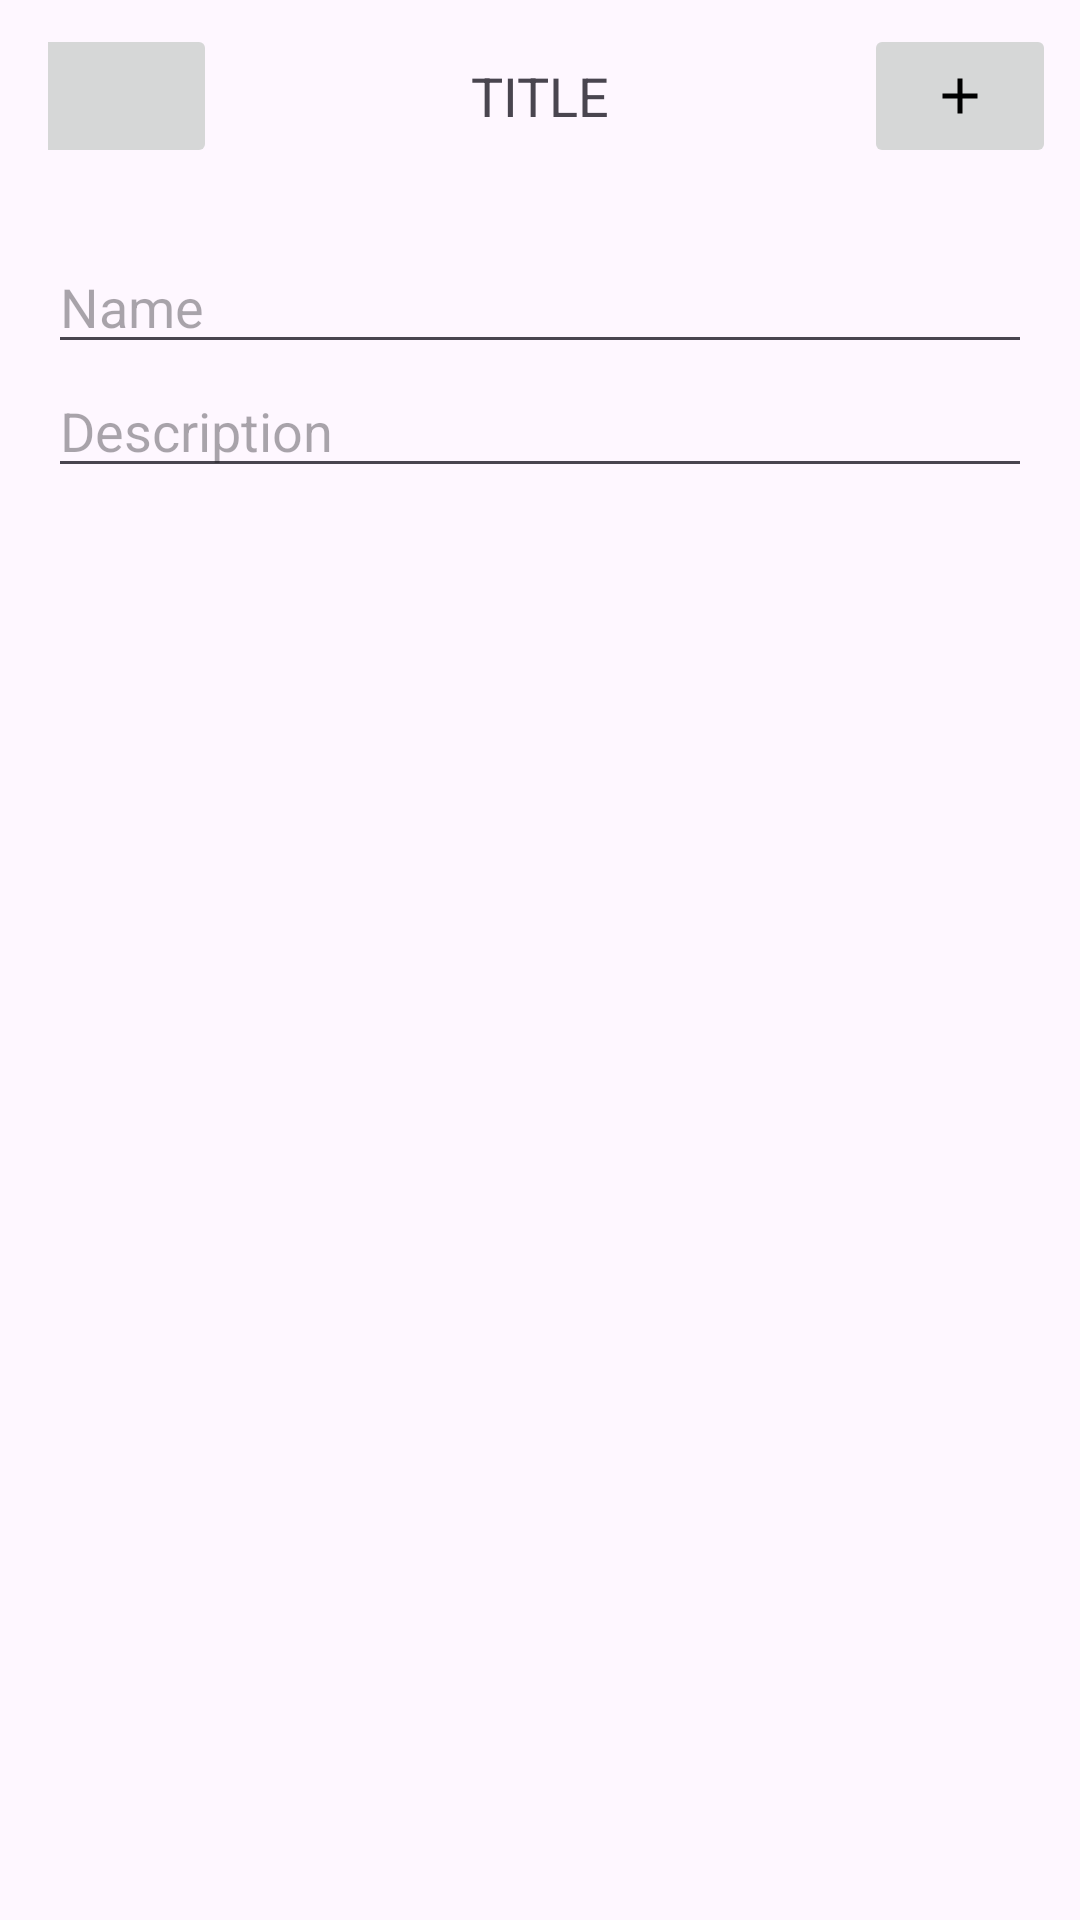

Locate icon controls on the screen. Image size 1080*1920, boxes as (x1, y1, x2, y2).
add: (876, 42, 1044, 150)
